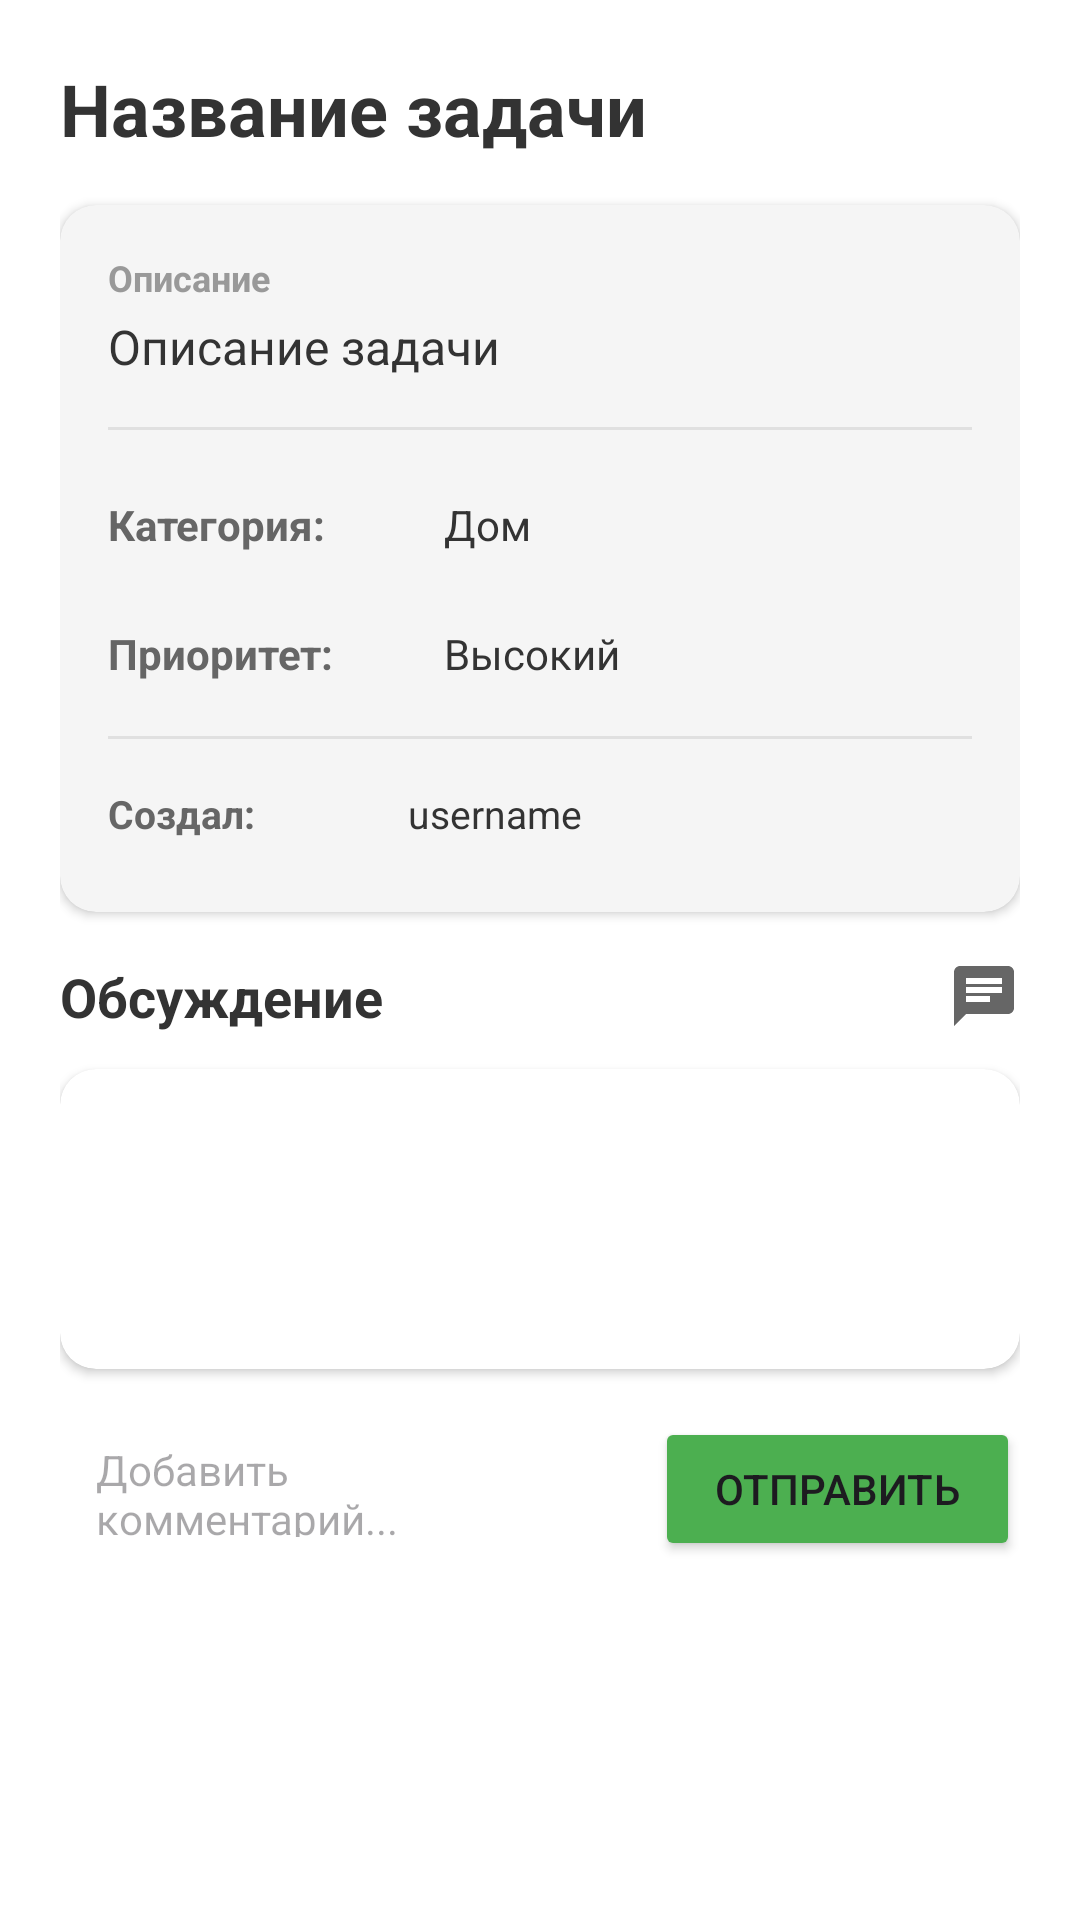

Screen size 1080x1920. Icon name, then its box in pixels as (x1=x1, y1=y1, x2=x2, y2=y2):
chat: (x1=954, y1=966, x2=1014, y2=1026)
